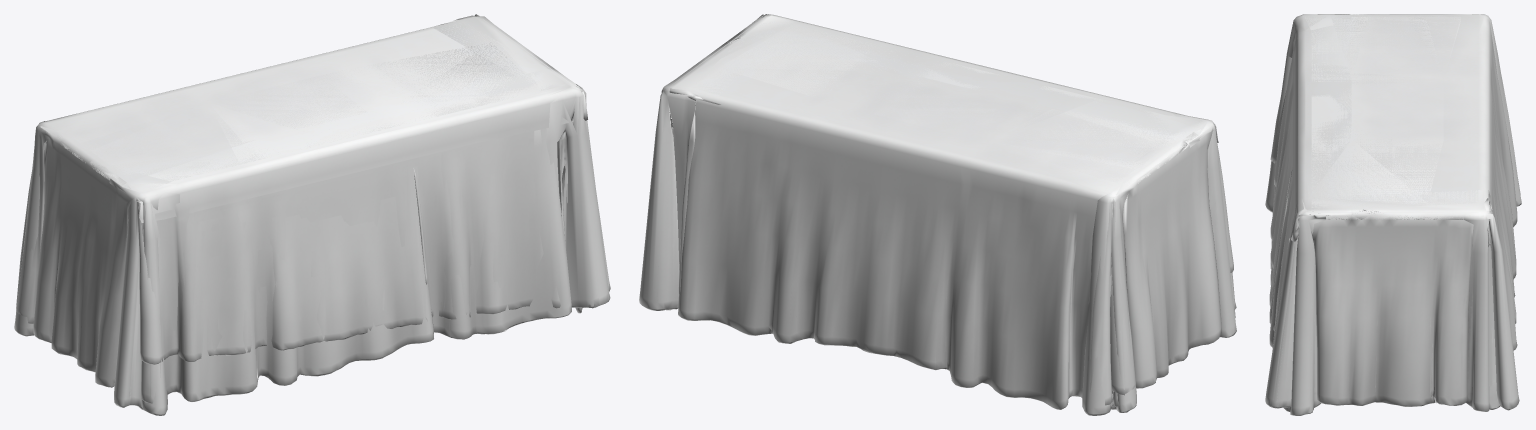
File: 30inchtall_banquettable_6ftlong.glb
The picture shows the model from 3 angles, left to right: view 1: azimuth 30°, elevation 25°; view 2: azimuth 150°, elevation 25°; view 3: azimuth 270°, elevation 25°; orthographic projection. The views are drawn at different scales.
Parts seen in each view (by area): view 1: Mesh_0; view 2: Mesh_0; view 3: Mesh_0.
Boxes of the visible parts, bbox=[...] form: Mesh_0: bbox=[14, 14, 610, 415]; Mesh_0: bbox=[639, 14, 1236, 415]; Mesh_0: bbox=[1265, 14, 1521, 415].
Size of the model in its own units: 1.79 by 0.762 by 0.8724.
1 material, 1 textured.
